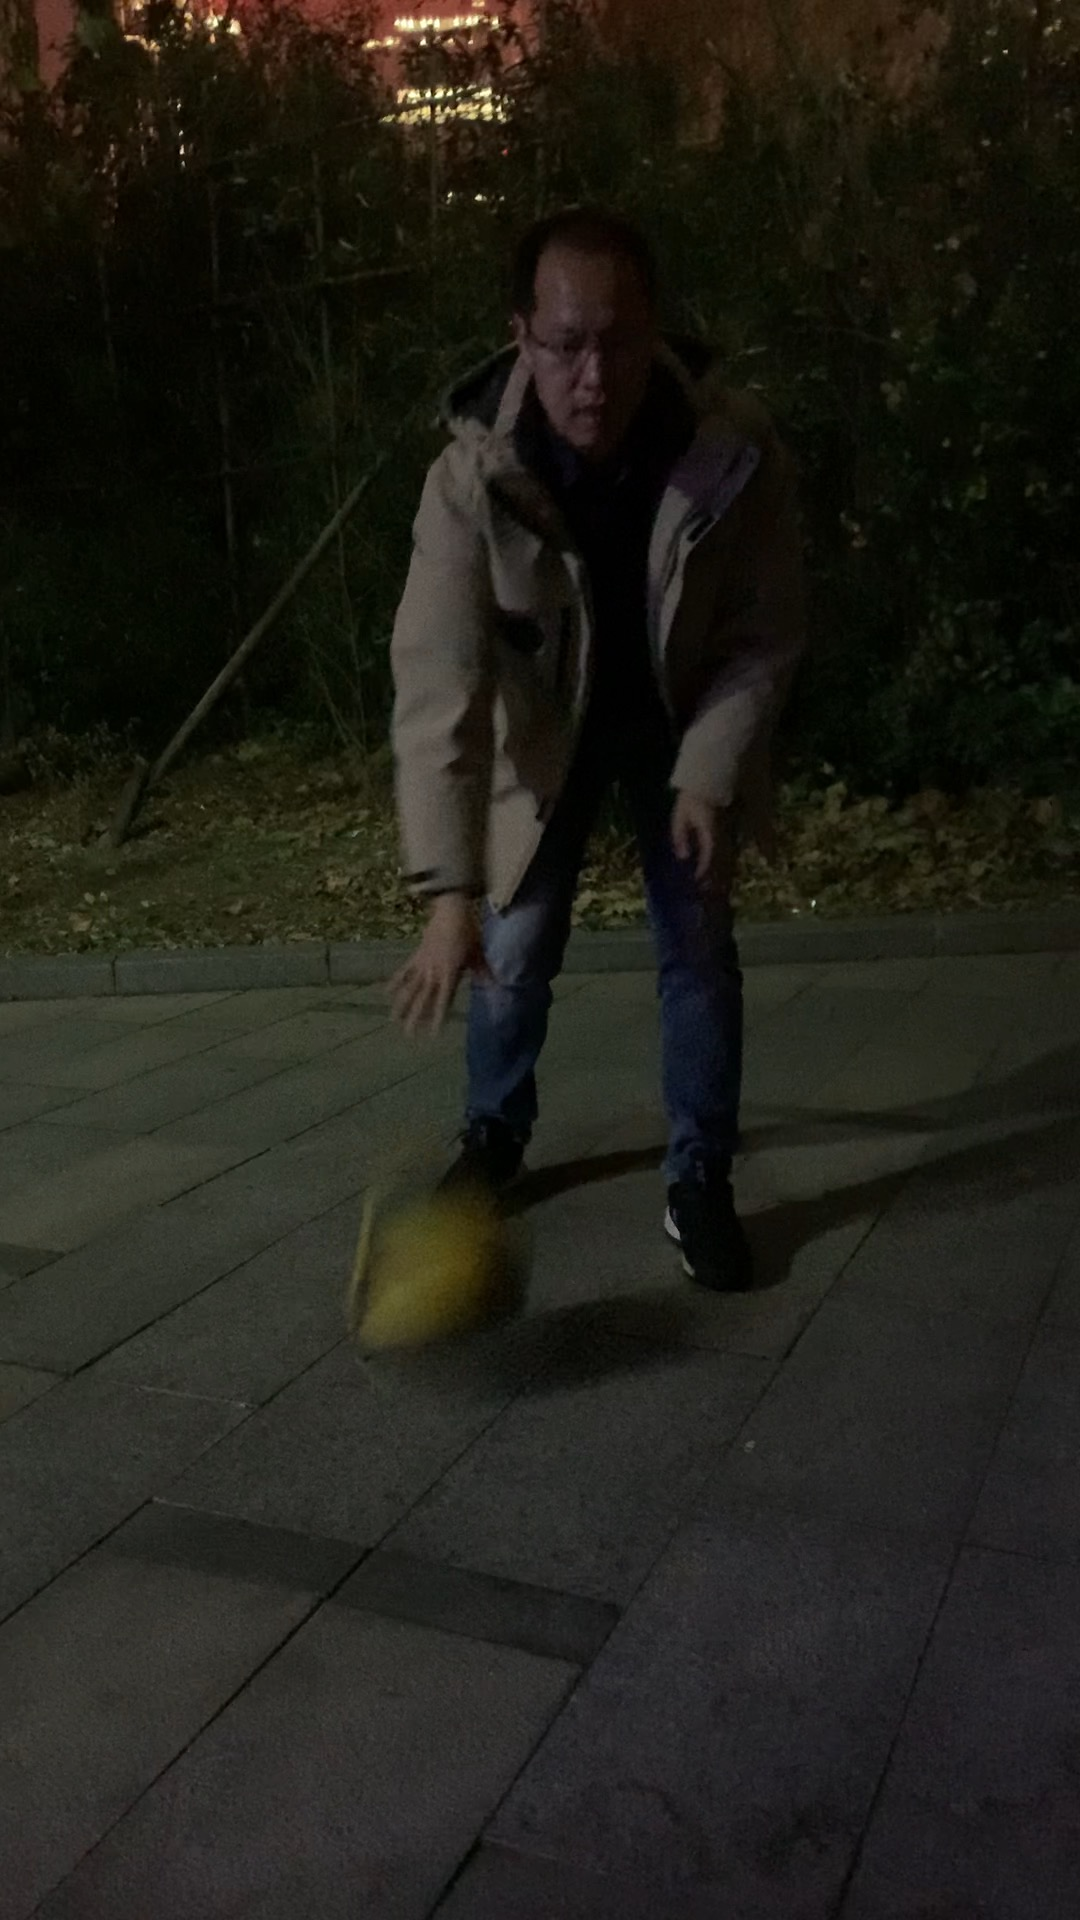ball: (338, 1185, 530, 1378)
